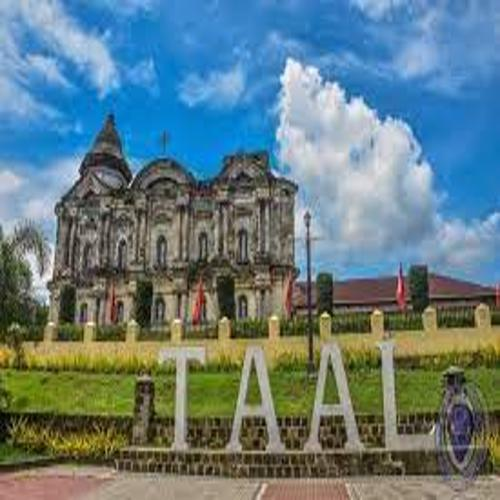Taal Basilica Church: (46, 106, 302, 336)
